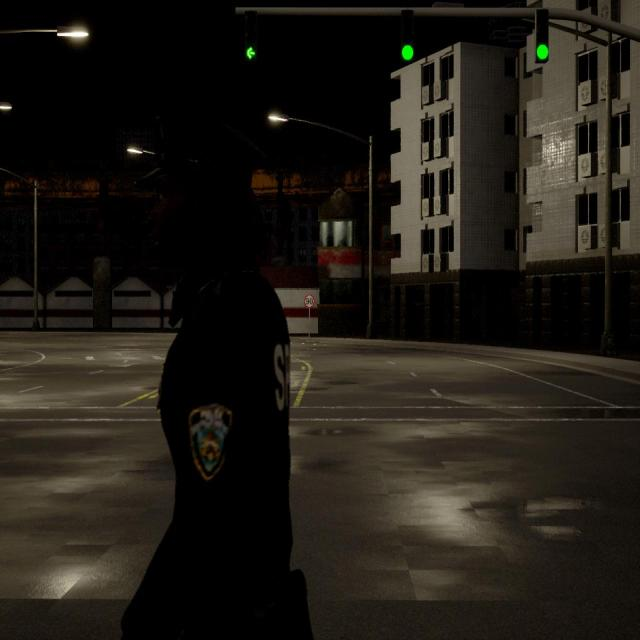Pedestrian: (126, 120, 306, 638)
Traffic_Signs: (305, 295, 314, 307)
traffic_light: (244, 11, 257, 61), (402, 10, 414, 61), (536, 10, 548, 61)
